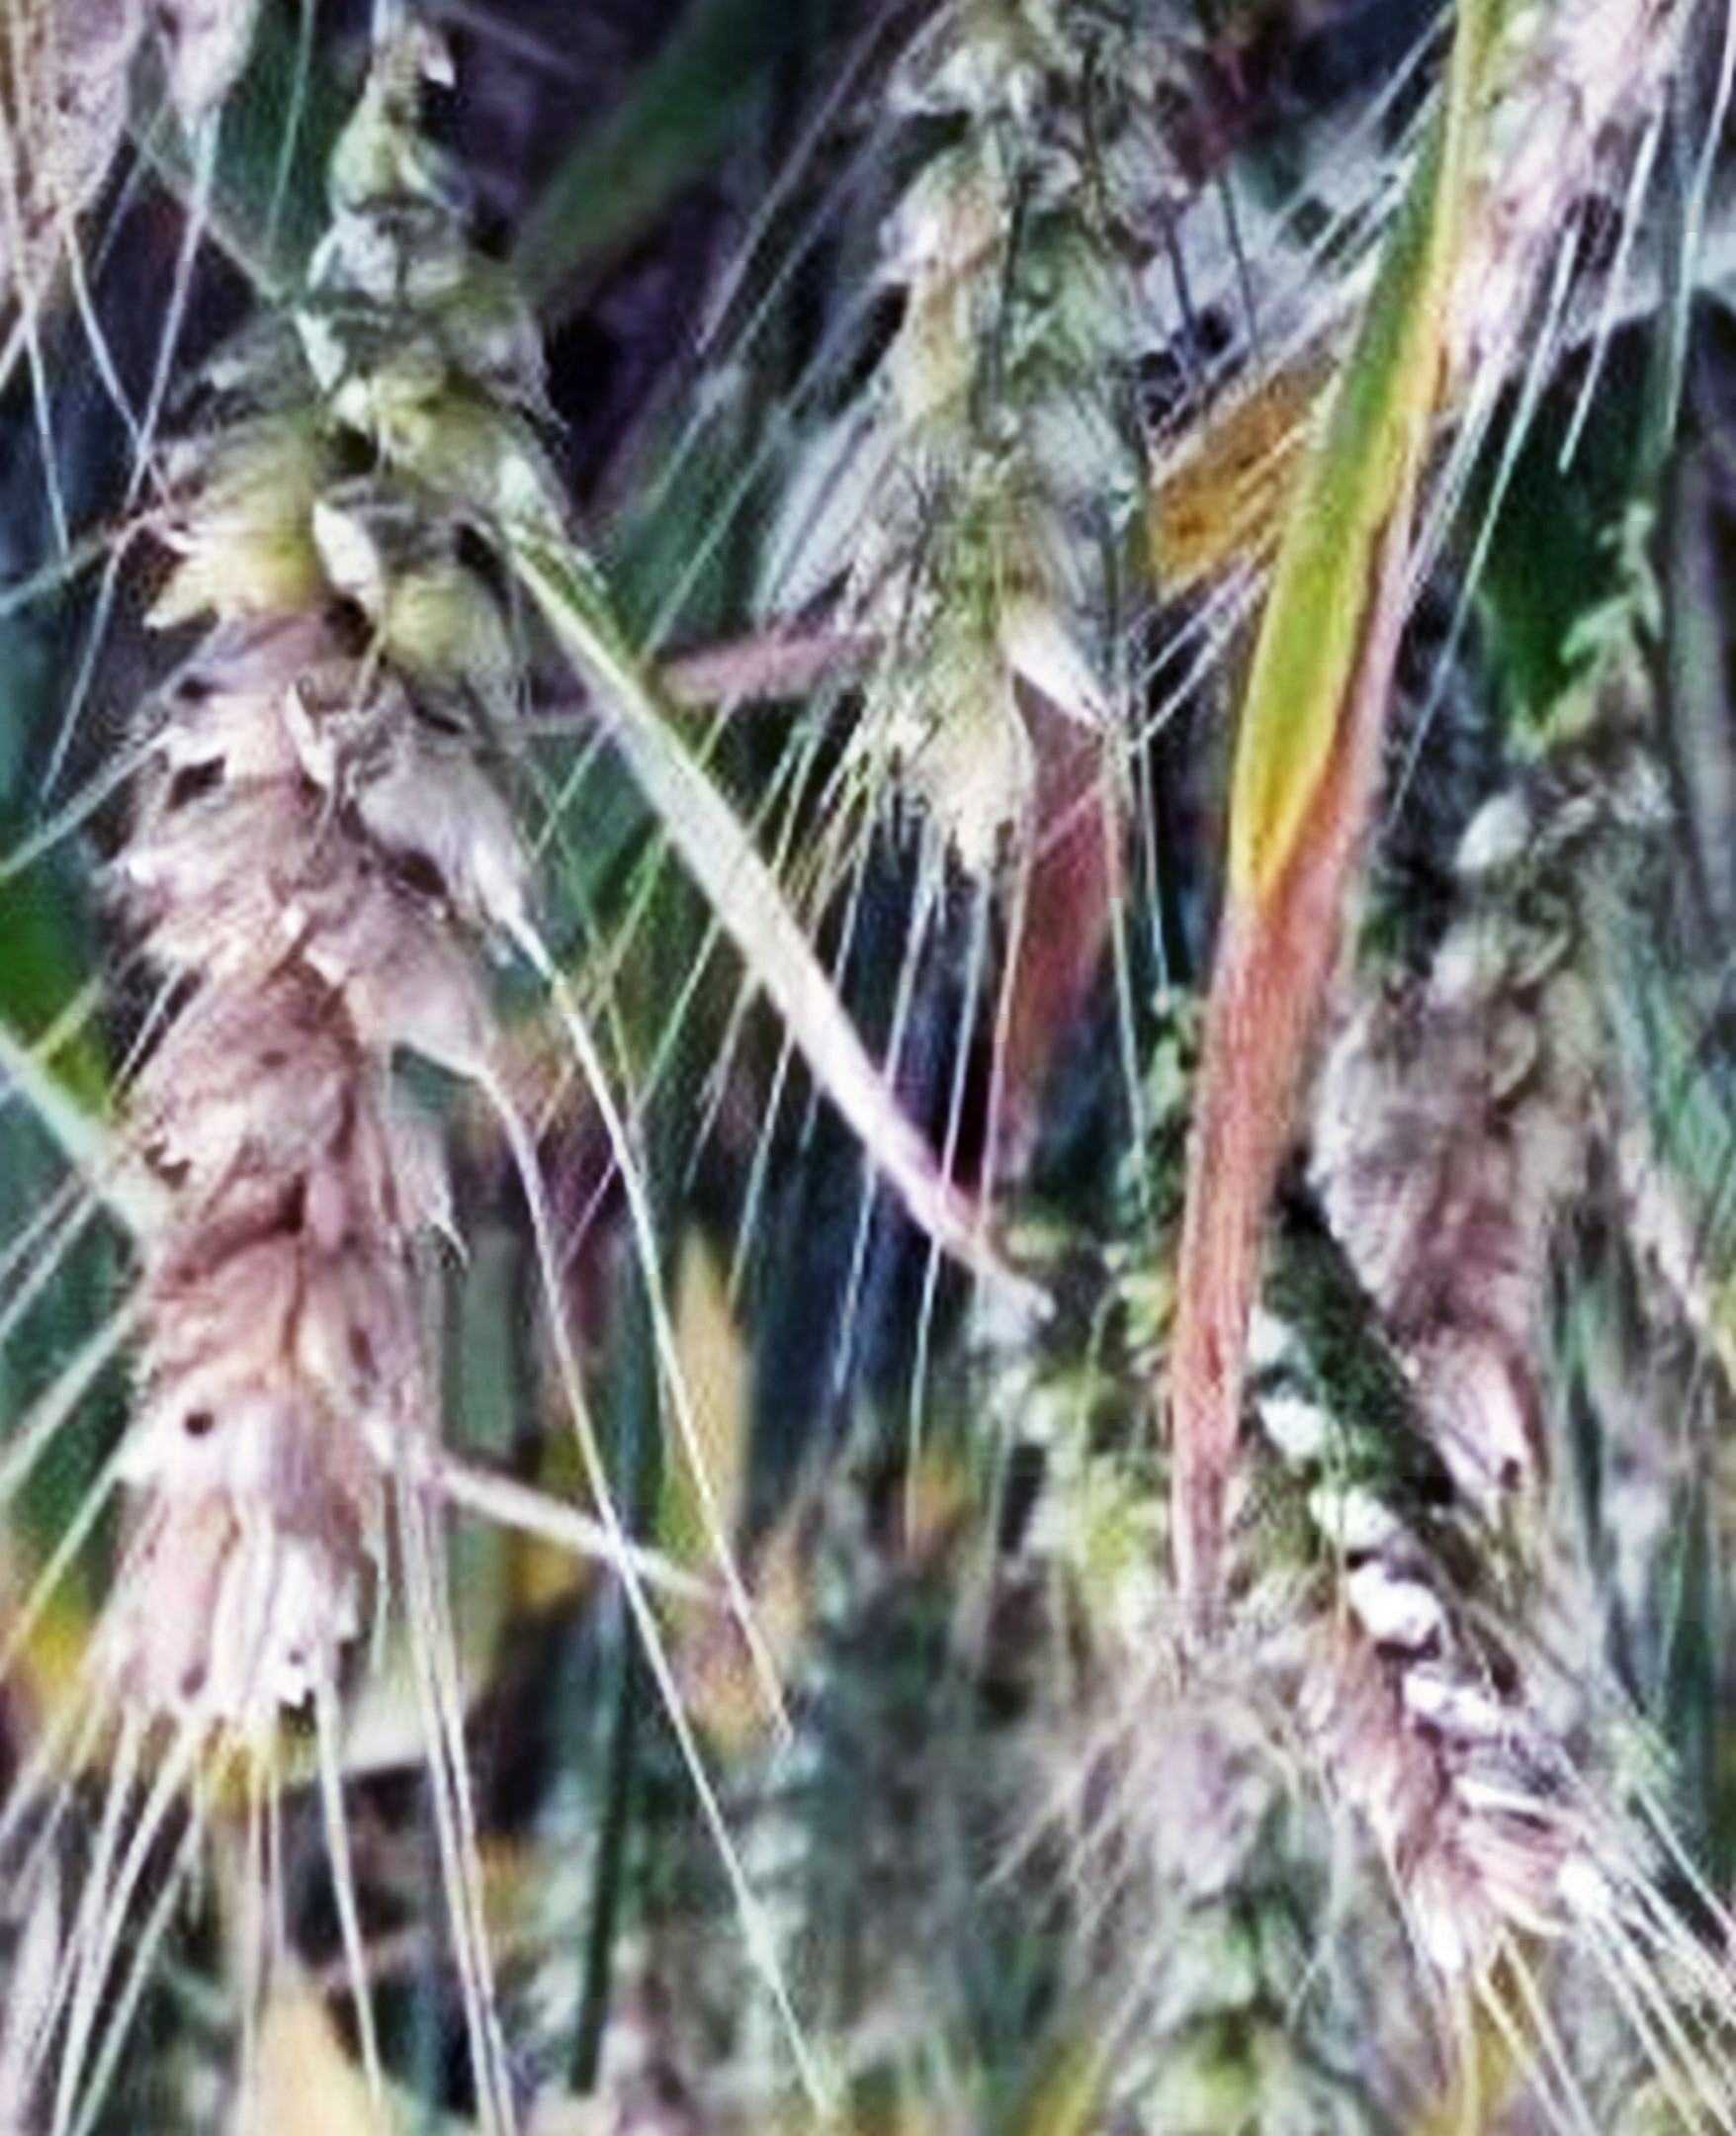Wheat scab: (73, 129, 563, 1709), (1112, 1029, 1601, 1948)
